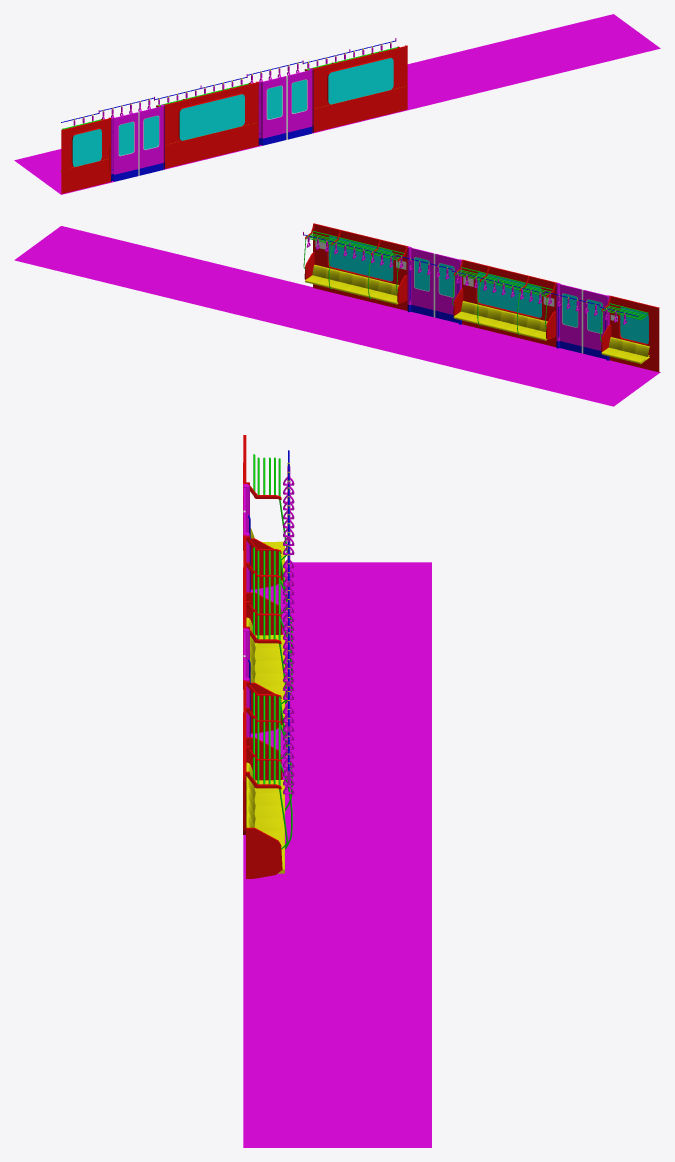
The model's file is train_danmen.fbx.
The picture shows the model from 3 angles, top to bottom: view 1: azimuth 30°, elevation 25°; view 2: azimuth 150°, elevation 25°; view 3: azimuth 270°, elevation 25°; orthographic projection. The views are drawn at different scales.
Visible parts, largest first — view 1: pPlane45, polySurface104, polySurface123, polySurface146, door4right, door3right, door4left, door3left, pPlane20; view 2: pPlane45, polySurface123, polySurface104, polySurface146, door3left, door4left, door3right, door4right, polySurface130, polySurface111, polySurface402, pPlane17 (+1 smaller); view 3: pPlane45, polySurface100, polySurface111, polySurface130.
Boxes of the visible parts, bbox=[...] form: pPlane45: bbox=[14, 14, 660, 194]; polySurface104: bbox=[312, 45, 407, 132]; polySurface123: bbox=[163, 82, 259, 168]; polySurface146: bbox=[61, 118, 111, 193]; door4right: bbox=[113, 112, 138, 181]; door3right: bbox=[262, 76, 286, 145]; door4left: bbox=[139, 106, 163, 175]; door3left: bbox=[287, 70, 311, 139]; pPlane20: bbox=[258, 81, 262, 145]; pPlane45: bbox=[14, 226, 660, 406]; polySurface123: bbox=[462, 259, 557, 346]; polySurface104: bbox=[313, 223, 408, 310]; polySurface146: bbox=[609, 295, 659, 372]; door3left: bbox=[411, 248, 434, 317]; door4left: bbox=[560, 284, 582, 353]; door3right: bbox=[434, 253, 458, 323]; door4right: bbox=[582, 289, 606, 359]; polySurface130: bbox=[455, 267, 552, 296]; polySurface111: bbox=[306, 231, 403, 260]; polySurface402: bbox=[602, 303, 648, 320]; pPlane17: bbox=[407, 246, 411, 312]; pPlane45: bbox=[243, 562, 431, 1147]; polySurface100: bbox=[246, 827, 282, 878]; polySurface111: bbox=[253, 692, 280, 785]; polySurface130: bbox=[253, 547, 280, 640].
Size of the model in its own units: 1375 by 141 by 188.
